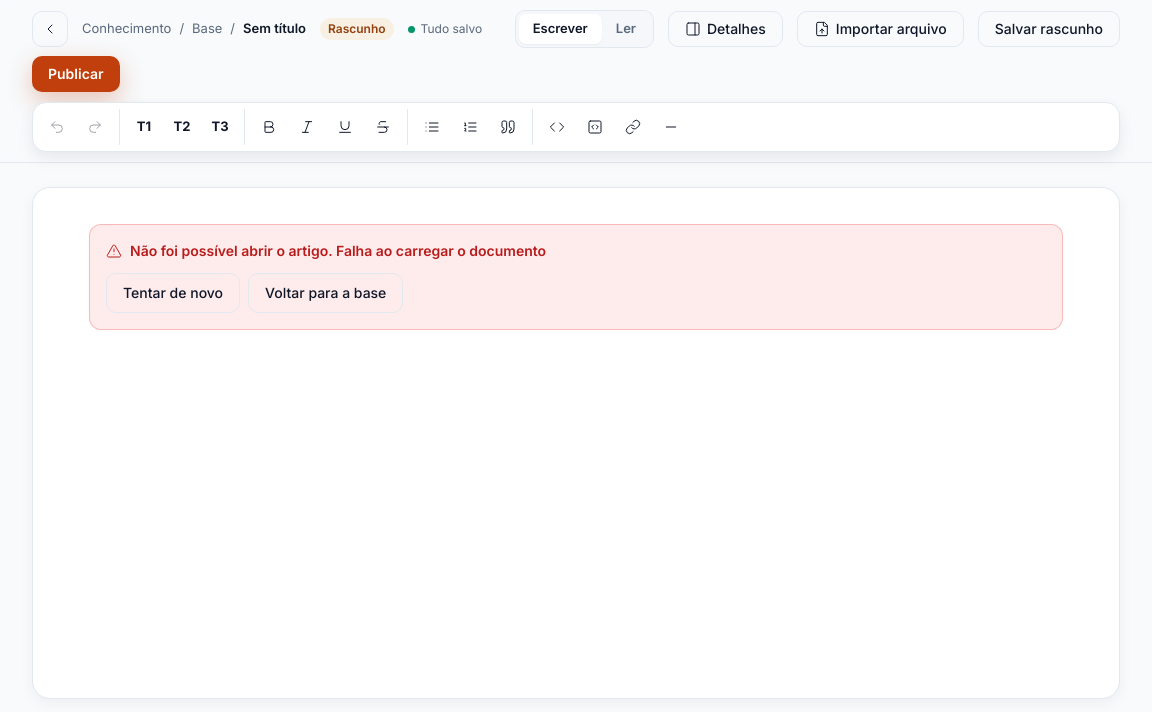
Test: ArticleEditor: artigo existente › erro ao carregar oferece tentar de novo
Expected: the text "Não foi possível abrir o artigo" is shown, [130,242,336,259]
Step 1. Click the button "Tentar de novo" → (173, 293), box [106,273,240,313]
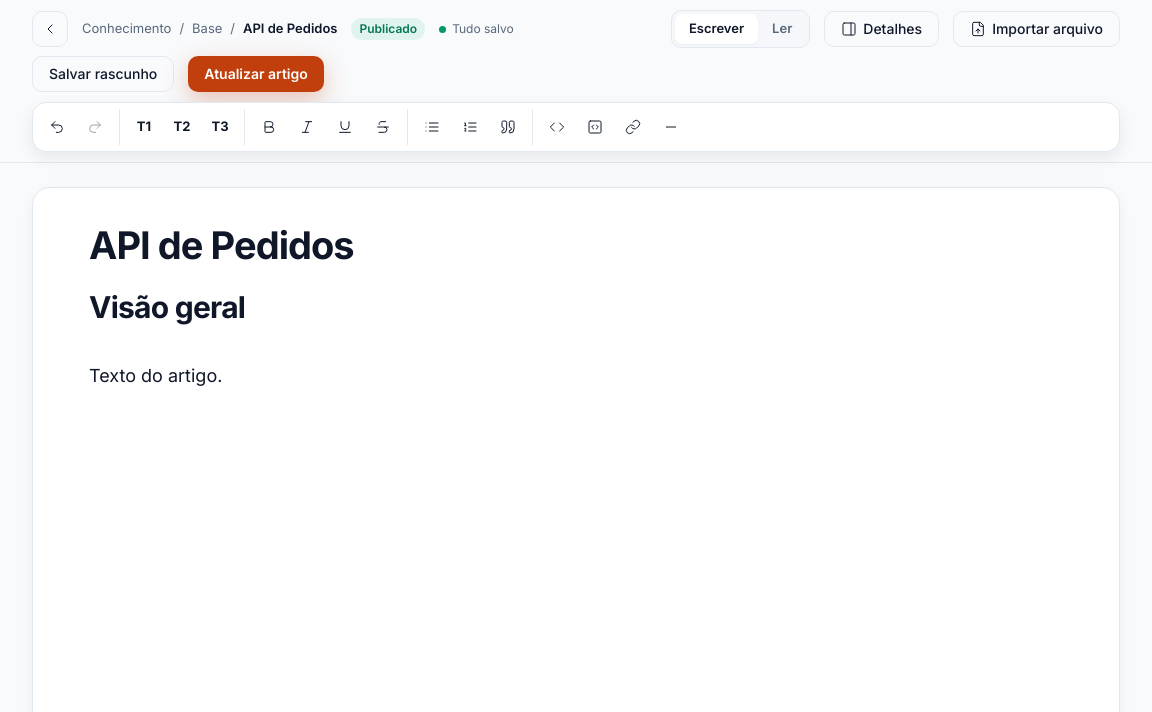
Expected: the field showing "API de Pedidos" is shown, [89,224,1063,268]
